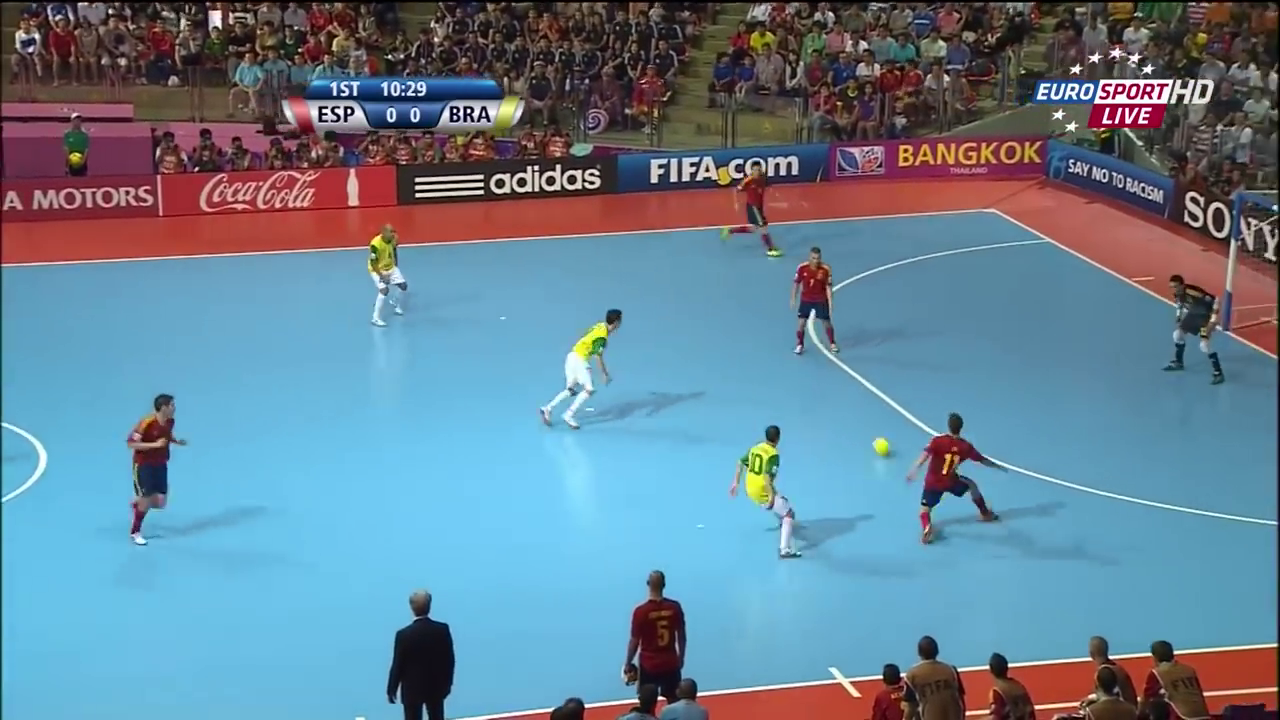ball: (869, 432, 893, 455)
person: (910, 411, 1005, 545), (530, 308, 629, 429), (729, 421, 813, 563), (124, 396, 193, 548), (1158, 273, 1227, 384), (778, 246, 841, 355), (717, 162, 778, 256), (360, 224, 418, 322)
